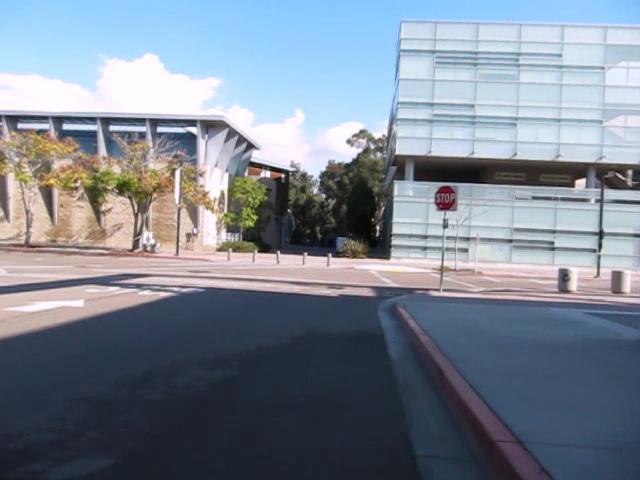stop: (434, 184, 456, 210)
